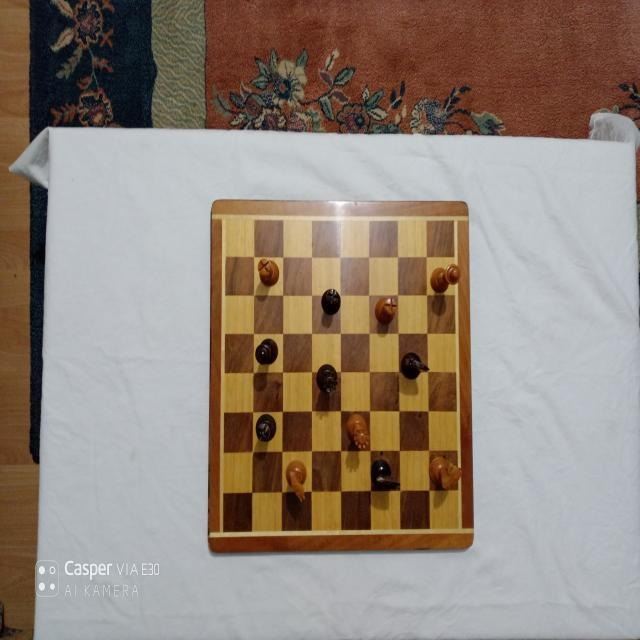black-king: (254, 338, 278, 366)
black-knight: (370, 459, 401, 491), (401, 350, 429, 379)
black-queen: (316, 362, 338, 393)
black-rook: (256, 414, 276, 442), (321, 289, 341, 315)
white-king: (430, 263, 462, 294)
white-knight: (428, 456, 462, 491), (285, 458, 307, 501)
white-queen: (345, 414, 370, 450)
white-rook: (257, 257, 279, 287), (374, 296, 397, 324)
